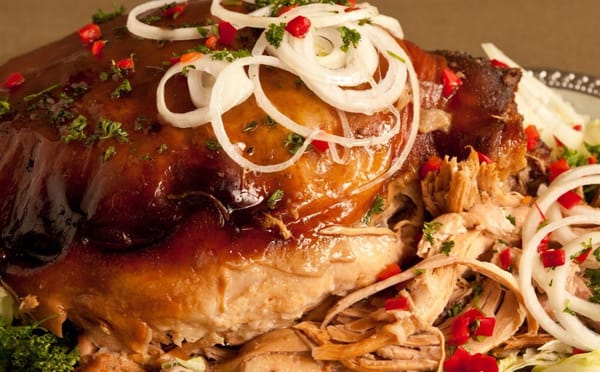curry: (1, 1, 589, 367)
sandwich: (0, 0, 429, 362)
